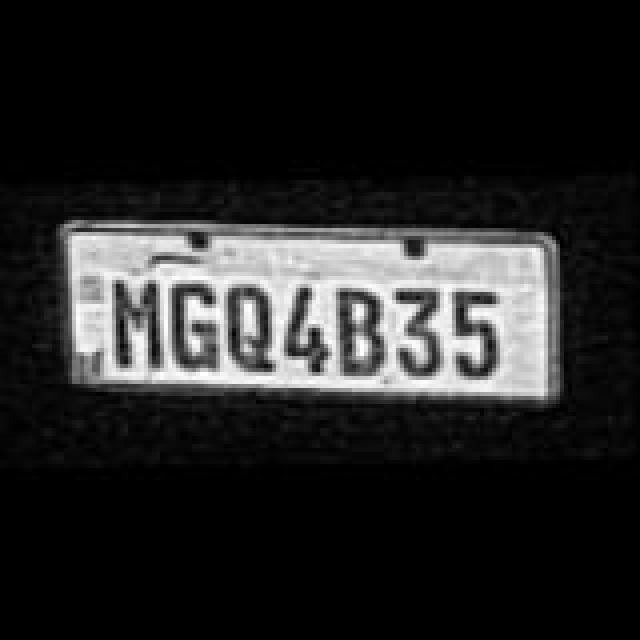3: (394, 284, 442, 376)
4: (288, 282, 332, 374)
5: (452, 284, 504, 376)
B: (336, 282, 388, 374)
G: (168, 276, 220, 368)
M: (112, 278, 164, 370)
Q: (226, 280, 274, 372)
